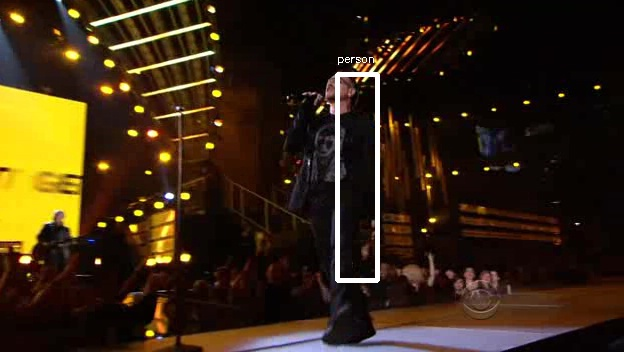person: (289, 71, 370, 228), (286, 71, 367, 228), (292, 71, 373, 228), (289, 68, 370, 225), (289, 74, 370, 231)
target_negative: (462, 44, 589, 333), (396, 3, 555, 140), (400, 54, 490, 137), (541, 128, 571, 324), (433, 74, 481, 83), (247, 349, 522, 350)
